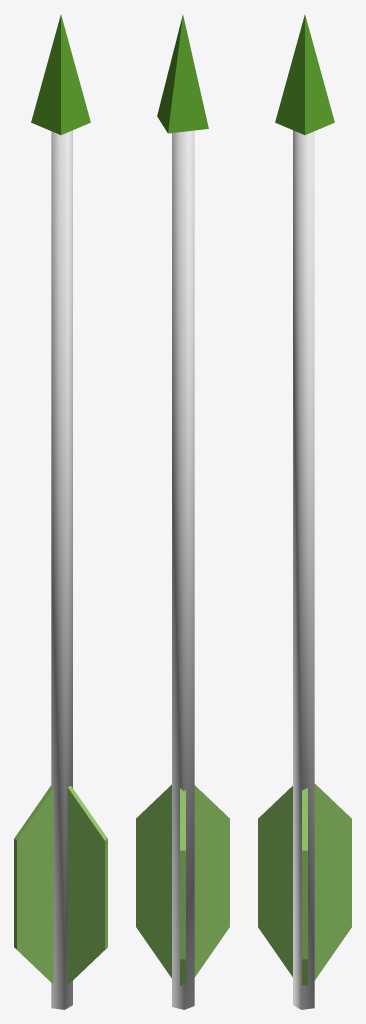
File: cursed_arrow.glb
The picture shows the model from 3 angles, left to right: view 1: azimuth 90°, elevation 25°; view 2: azimuth 150°, elevation 25°; view 3: azimuth 270°, elevation 25°; orthographic projection.
Parts seen in each view (by area): view 1: cursed_arrow_v0; view 2: cursed_arrow_v0; view 3: cursed_arrow_v0.
Boxes of the visible parts, bbox=[...] form: cursed_arrow_v0: bbox=[14, 15, 107, 1009]; cursed_arrow_v0: bbox=[136, 15, 229, 1009]; cursed_arrow_v0: bbox=[258, 15, 351, 1009].
Size of the model in its own units: 0.055 by 0.73 by 0.0626.
